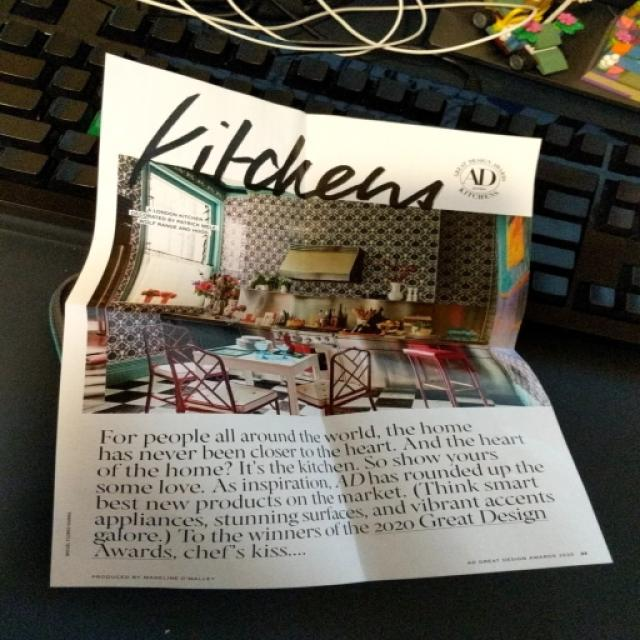document: (51, 55, 610, 588)
